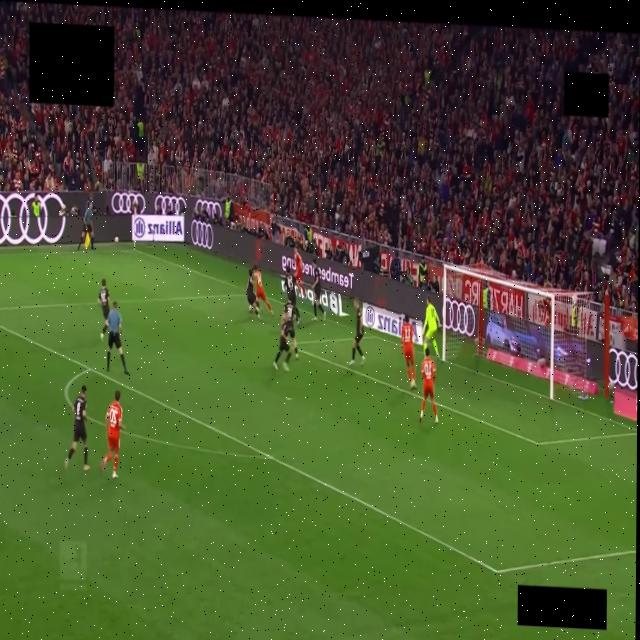ball: (249, 306, 252, 312)
player: (65, 385, 89, 470), (101, 390, 122, 478), (419, 349, 437, 423), (348, 298, 364, 365), (401, 315, 415, 389), (252, 265, 272, 315), (423, 296, 439, 358), (273, 319, 291, 371), (281, 302, 297, 359), (285, 266, 300, 326), (311, 259, 325, 320), (98, 278, 109, 340), (246, 269, 259, 318), (294, 248, 305, 295)
referee: (106, 302, 127, 374)
